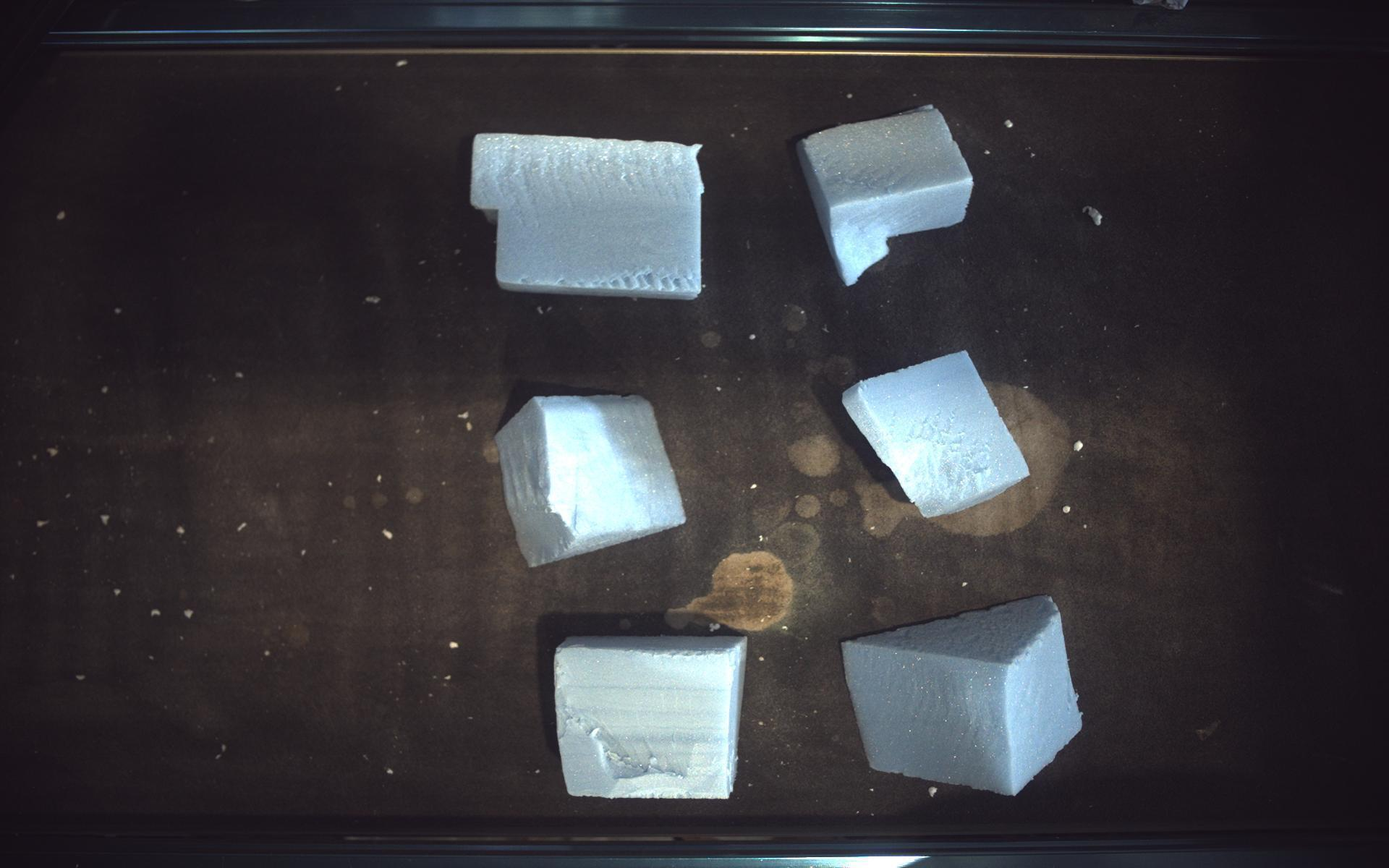foam: (844, 597, 1084, 797), (471, 132, 705, 299), (495, 395, 686, 567), (554, 637, 749, 800), (799, 104, 974, 285), (840, 351, 1027, 518)
